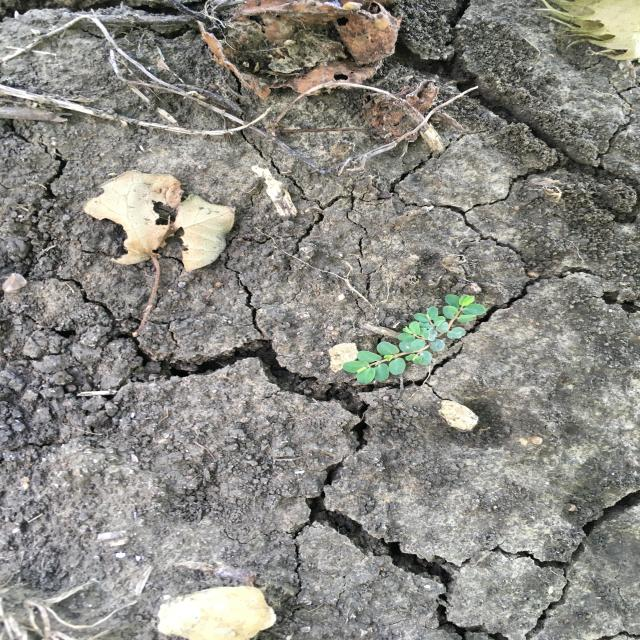SpottedSpurge: (339, 293, 490, 386)
